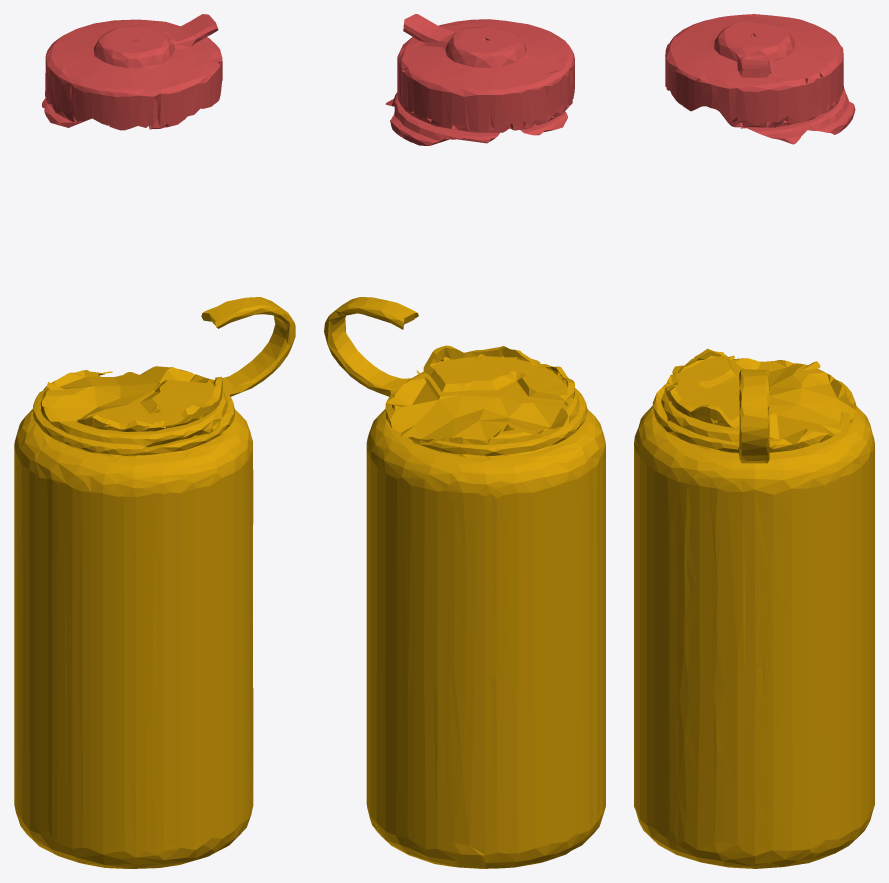
File: fractured_55_2pcs_transformed.glb
3 renders of one model, left to right at view 1: azimuth 30°, elevation 25°; view 2: azimuth 150°, elevation 25°; view 3: azimuth 270°, elevation 25°, orthographic.
Parts seen in each view (by area): view 1: piece_0.obj, piece_1.obj; view 2: piece_0.obj, piece_1.obj; view 3: piece_0.obj, piece_1.obj.
Part boxes in pixels (<box>): piece_0.obj: <box>14,297,295,868</box>; piece_1.obj: <box>42,14,222,130</box>; piece_0.obj: <box>324,297,605,868</box>; piece_1.obj: <box>385,14,574,145</box>; piece_0.obj: <box>634,348,874,868</box>; piece_1.obj: <box>665,14,855,144</box>.
Bounding box in the file's own units: 0.5451 × 1.59 × 0.4357.
